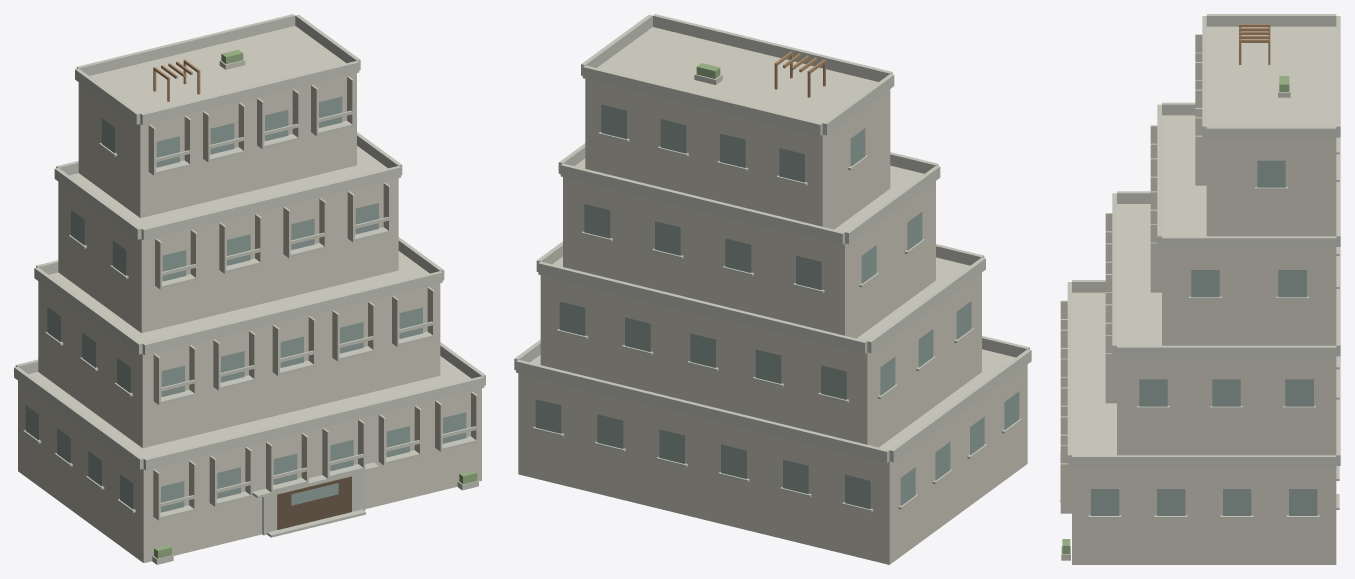
File: residential_3x2_terraces.glb
The picture shows the model from 3 angles, left to right: view 1: azimuth 30°, elevation 25°; view 2: azimuth 150°, elevation 25°; view 3: azimuth 270°, elevation 25°; orthographic projection. The views are drawn at different scales.
Parts seen in each view (by area): view 1: residential_3x2_terraces_0; view 2: residential_3x2_terraces_0; view 3: residential_3x2_terraces_0.
Part boxes in pixels (<box>): residential_3x2_terraces_0: <box>14,14,485,564</box>; residential_3x2_terraces_0: <box>514,14,1031,564</box>; residential_3x2_terraces_0: <box>1060,14,1340,564</box>.
Bounding box in the file's own units: 23 × 25.5 × 15.4.
